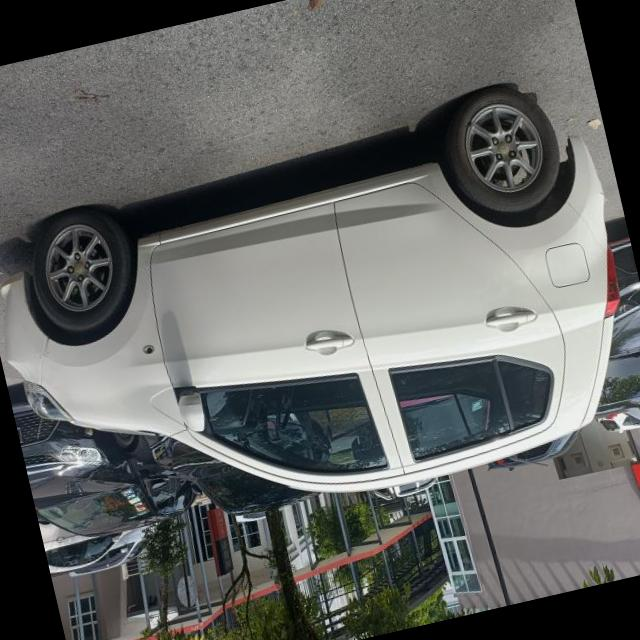PeroduaAxia: (0, 67, 640, 572)
